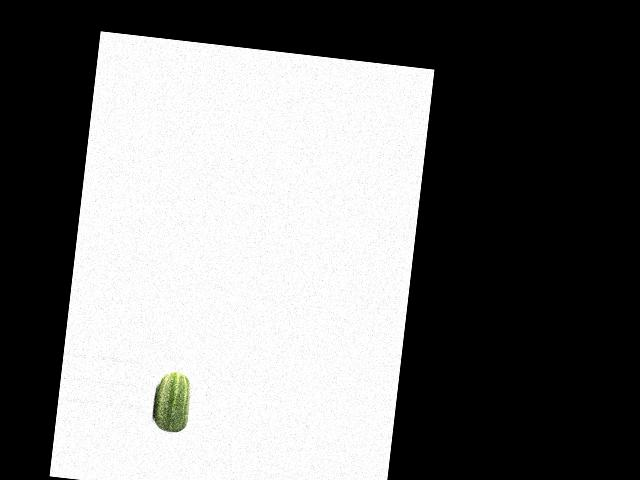cucumber: (151, 371, 192, 434)
